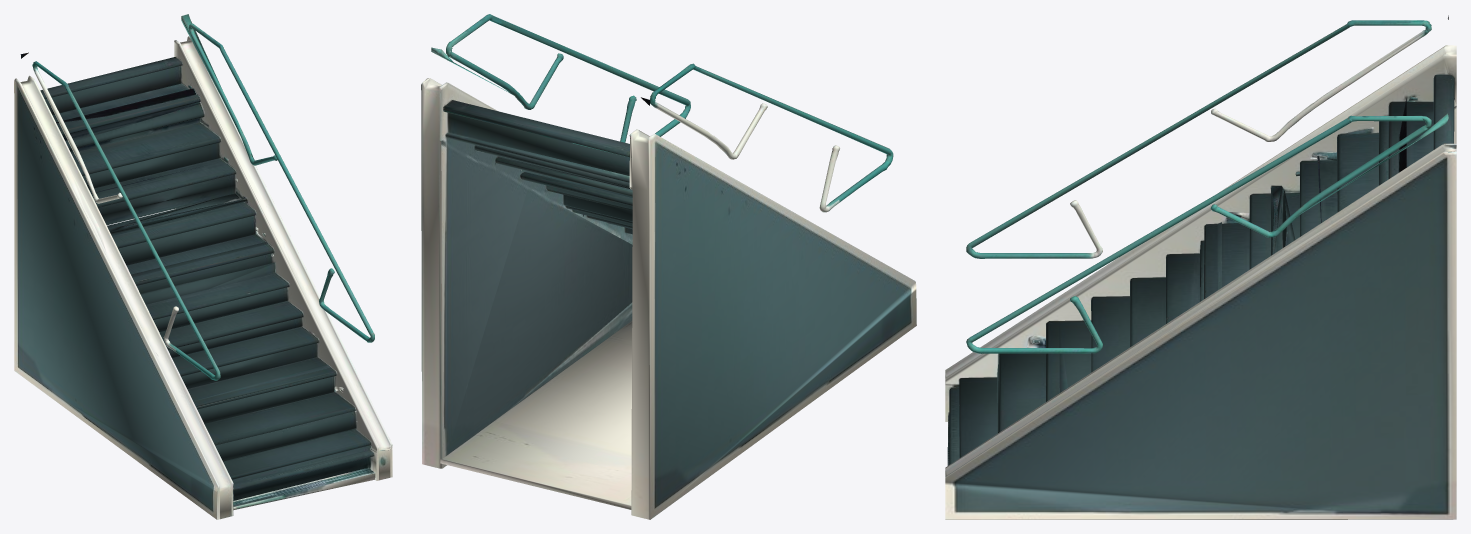
File: stairs.glb
The picture shows the model from 3 angles, left to right: view 1: azimuth 30°, elevation 25°; view 2: azimuth 150°, elevation 25°; view 3: azimuth 270°, elevation 25°; orthographic projection. The views are drawn at different scales.
Size of the model in its own units: 2 by 3.45 by 4.
Materials: 1 (1 with a texture image).
